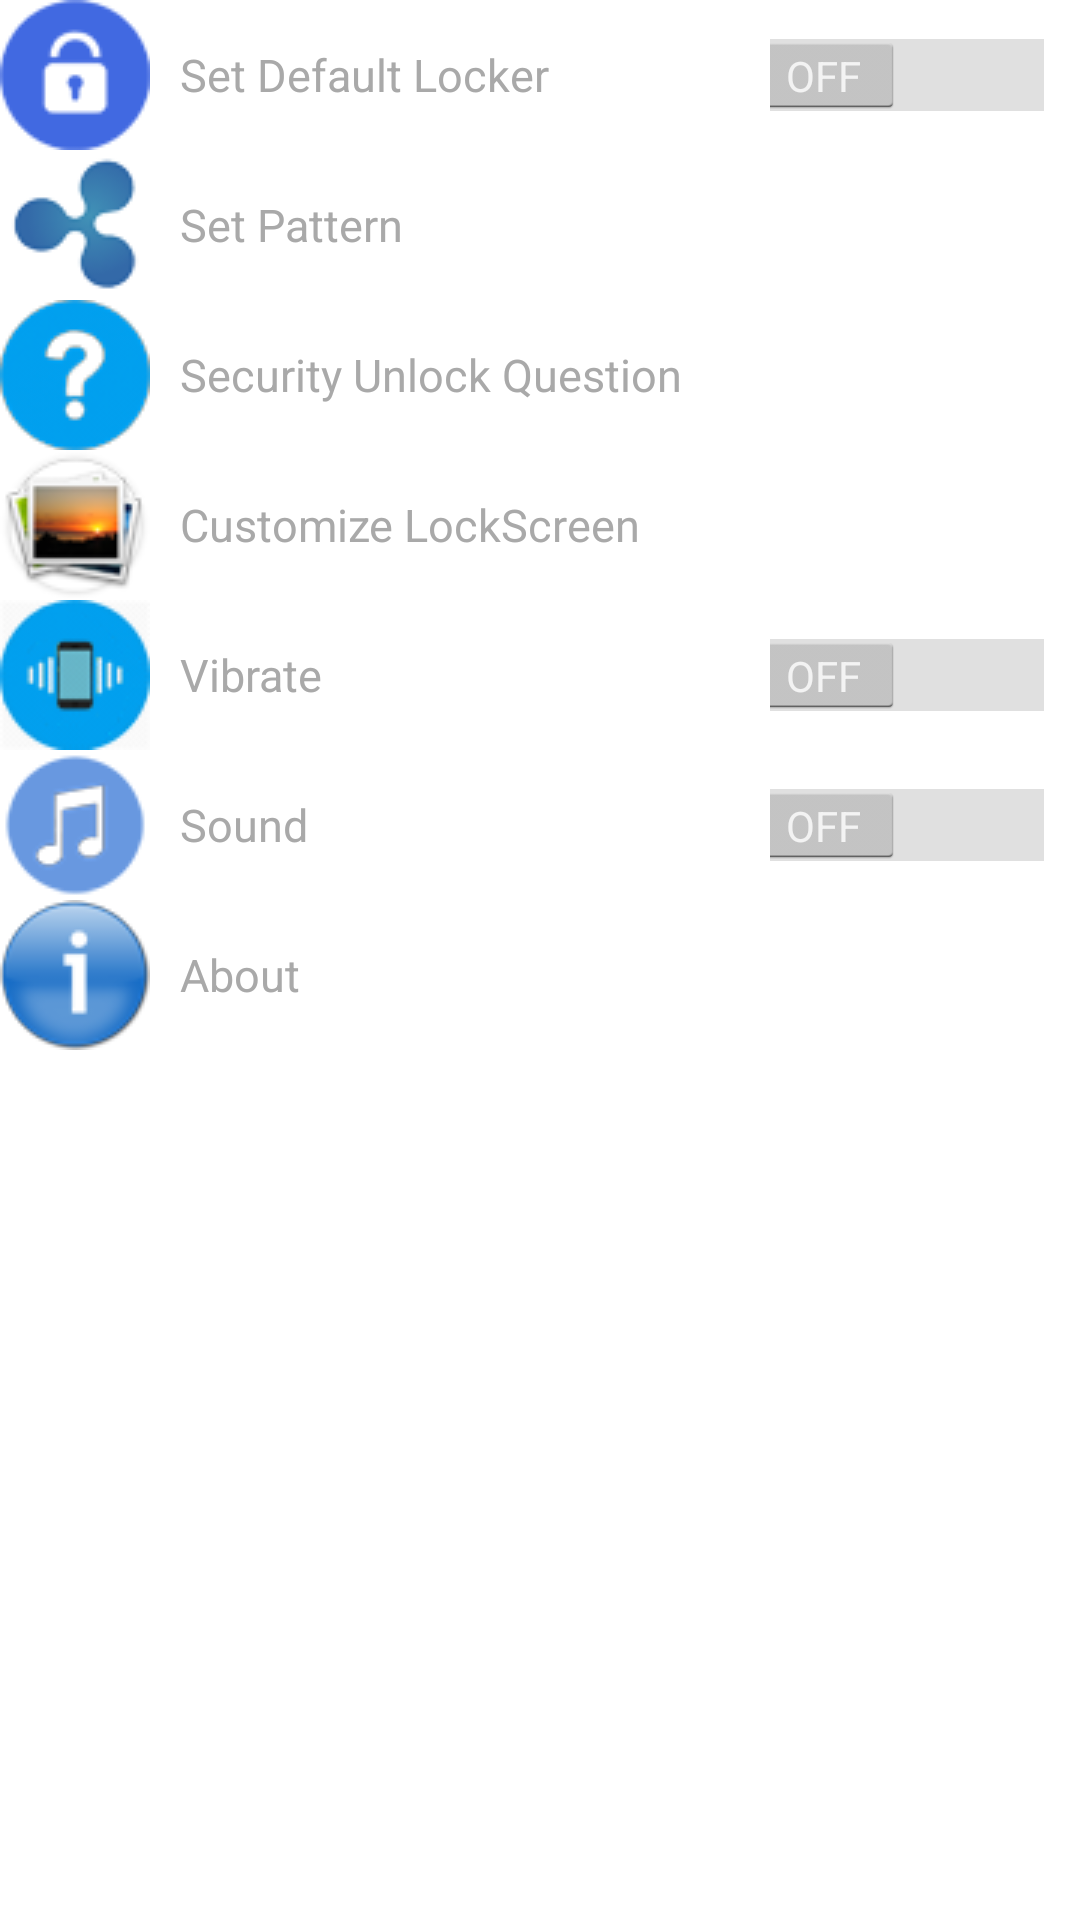

Icons on this 1080w x 1920h Android screen, each with the point to tap as [x,y]:
photos: [74,523]
